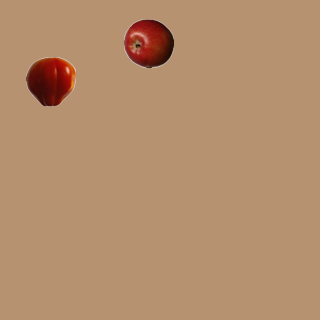Apple Braeburn: (123, 18, 173, 68)
Tomato 1: (25, 56, 75, 106)
